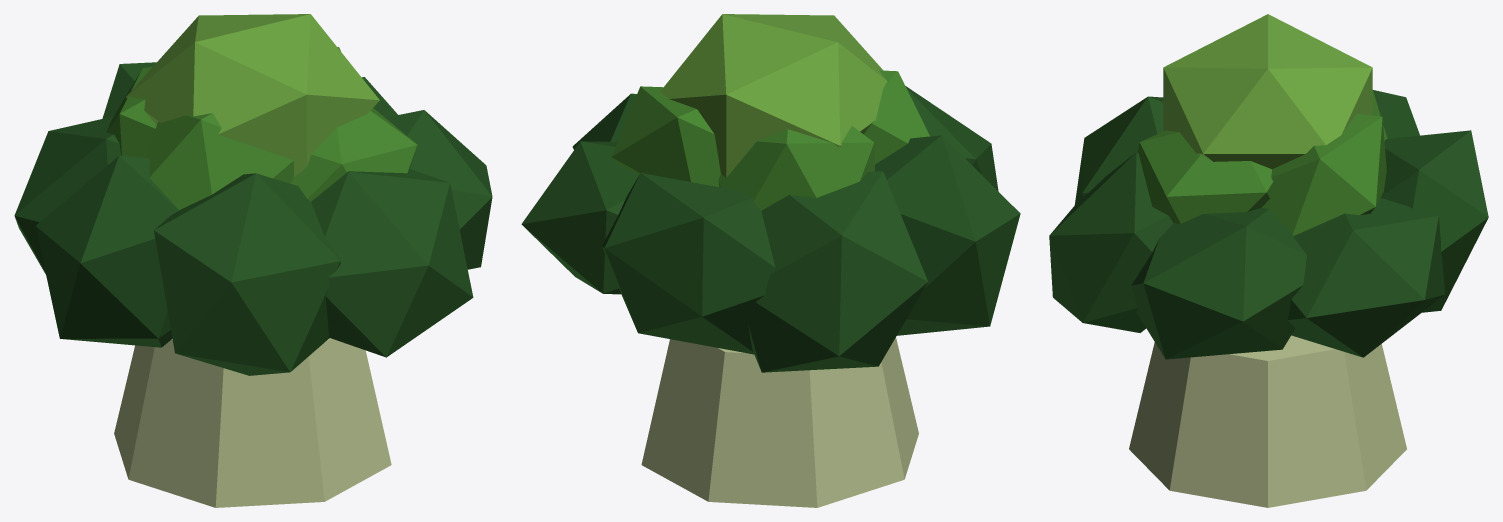
File: broccoli-69c8b6.glb
The picture shows the model from 3 angles, left to right: view 1: azimuth 30°, elevation 25°; view 2: azimuth 150°, elevation 25°; view 3: azimuth 270°, elevation 25°; orthographic projection. The views are drawn at different scales.
Size of the model in its own units: 0.1785 by 0.1682 by 0.1643.
